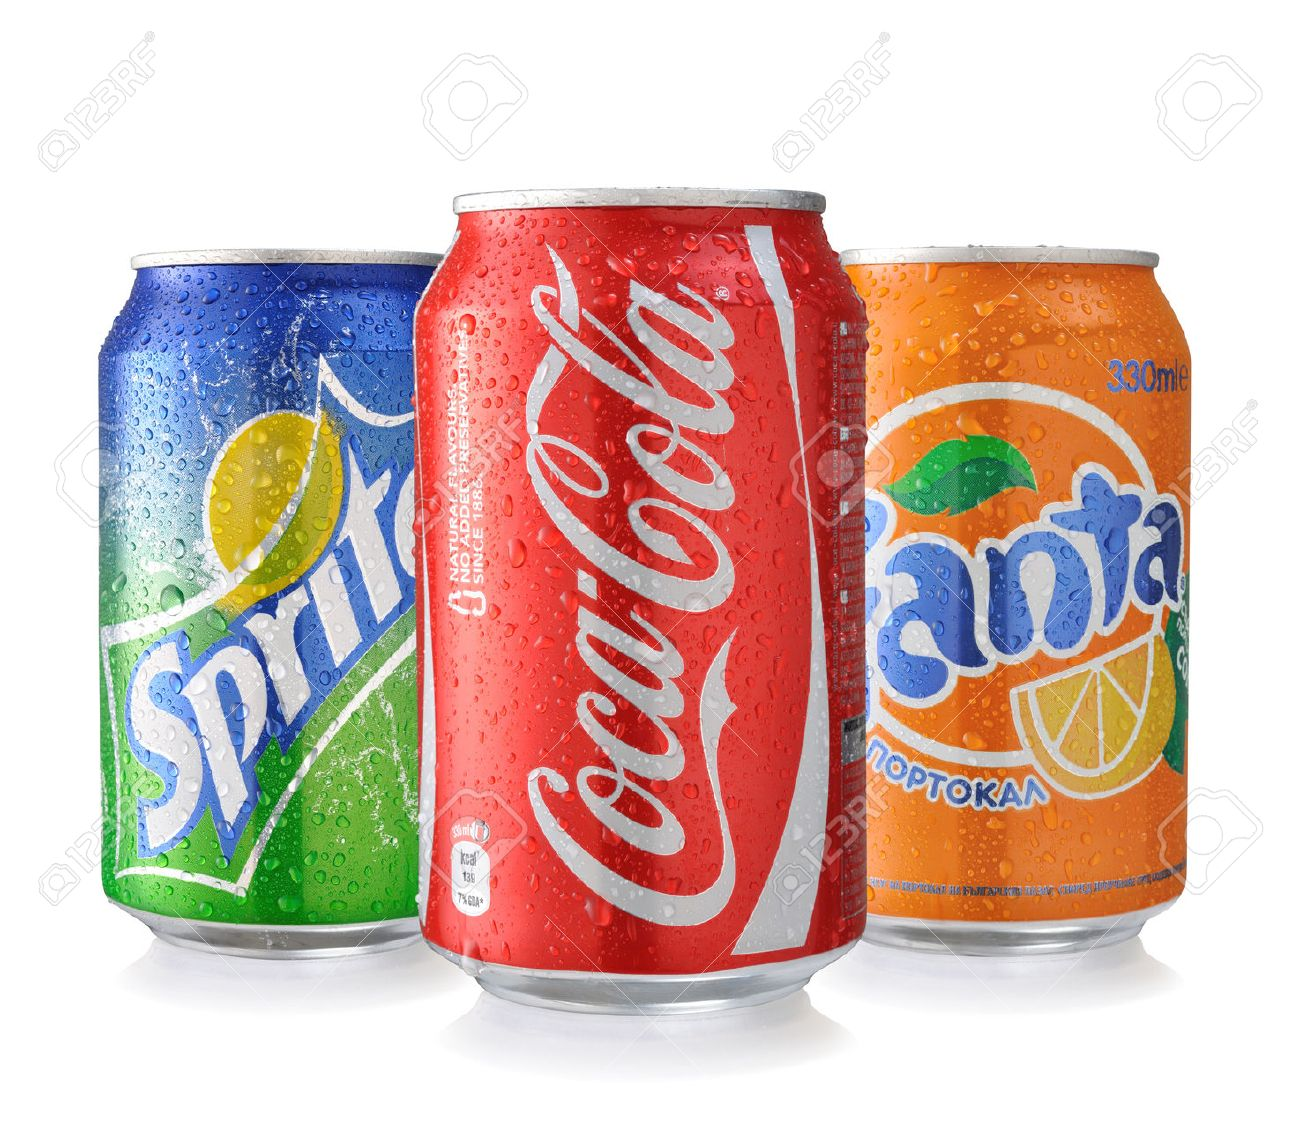sprite: (130, 437, 416, 858), (132, 437, 416, 858), (130, 437, 416, 846)
